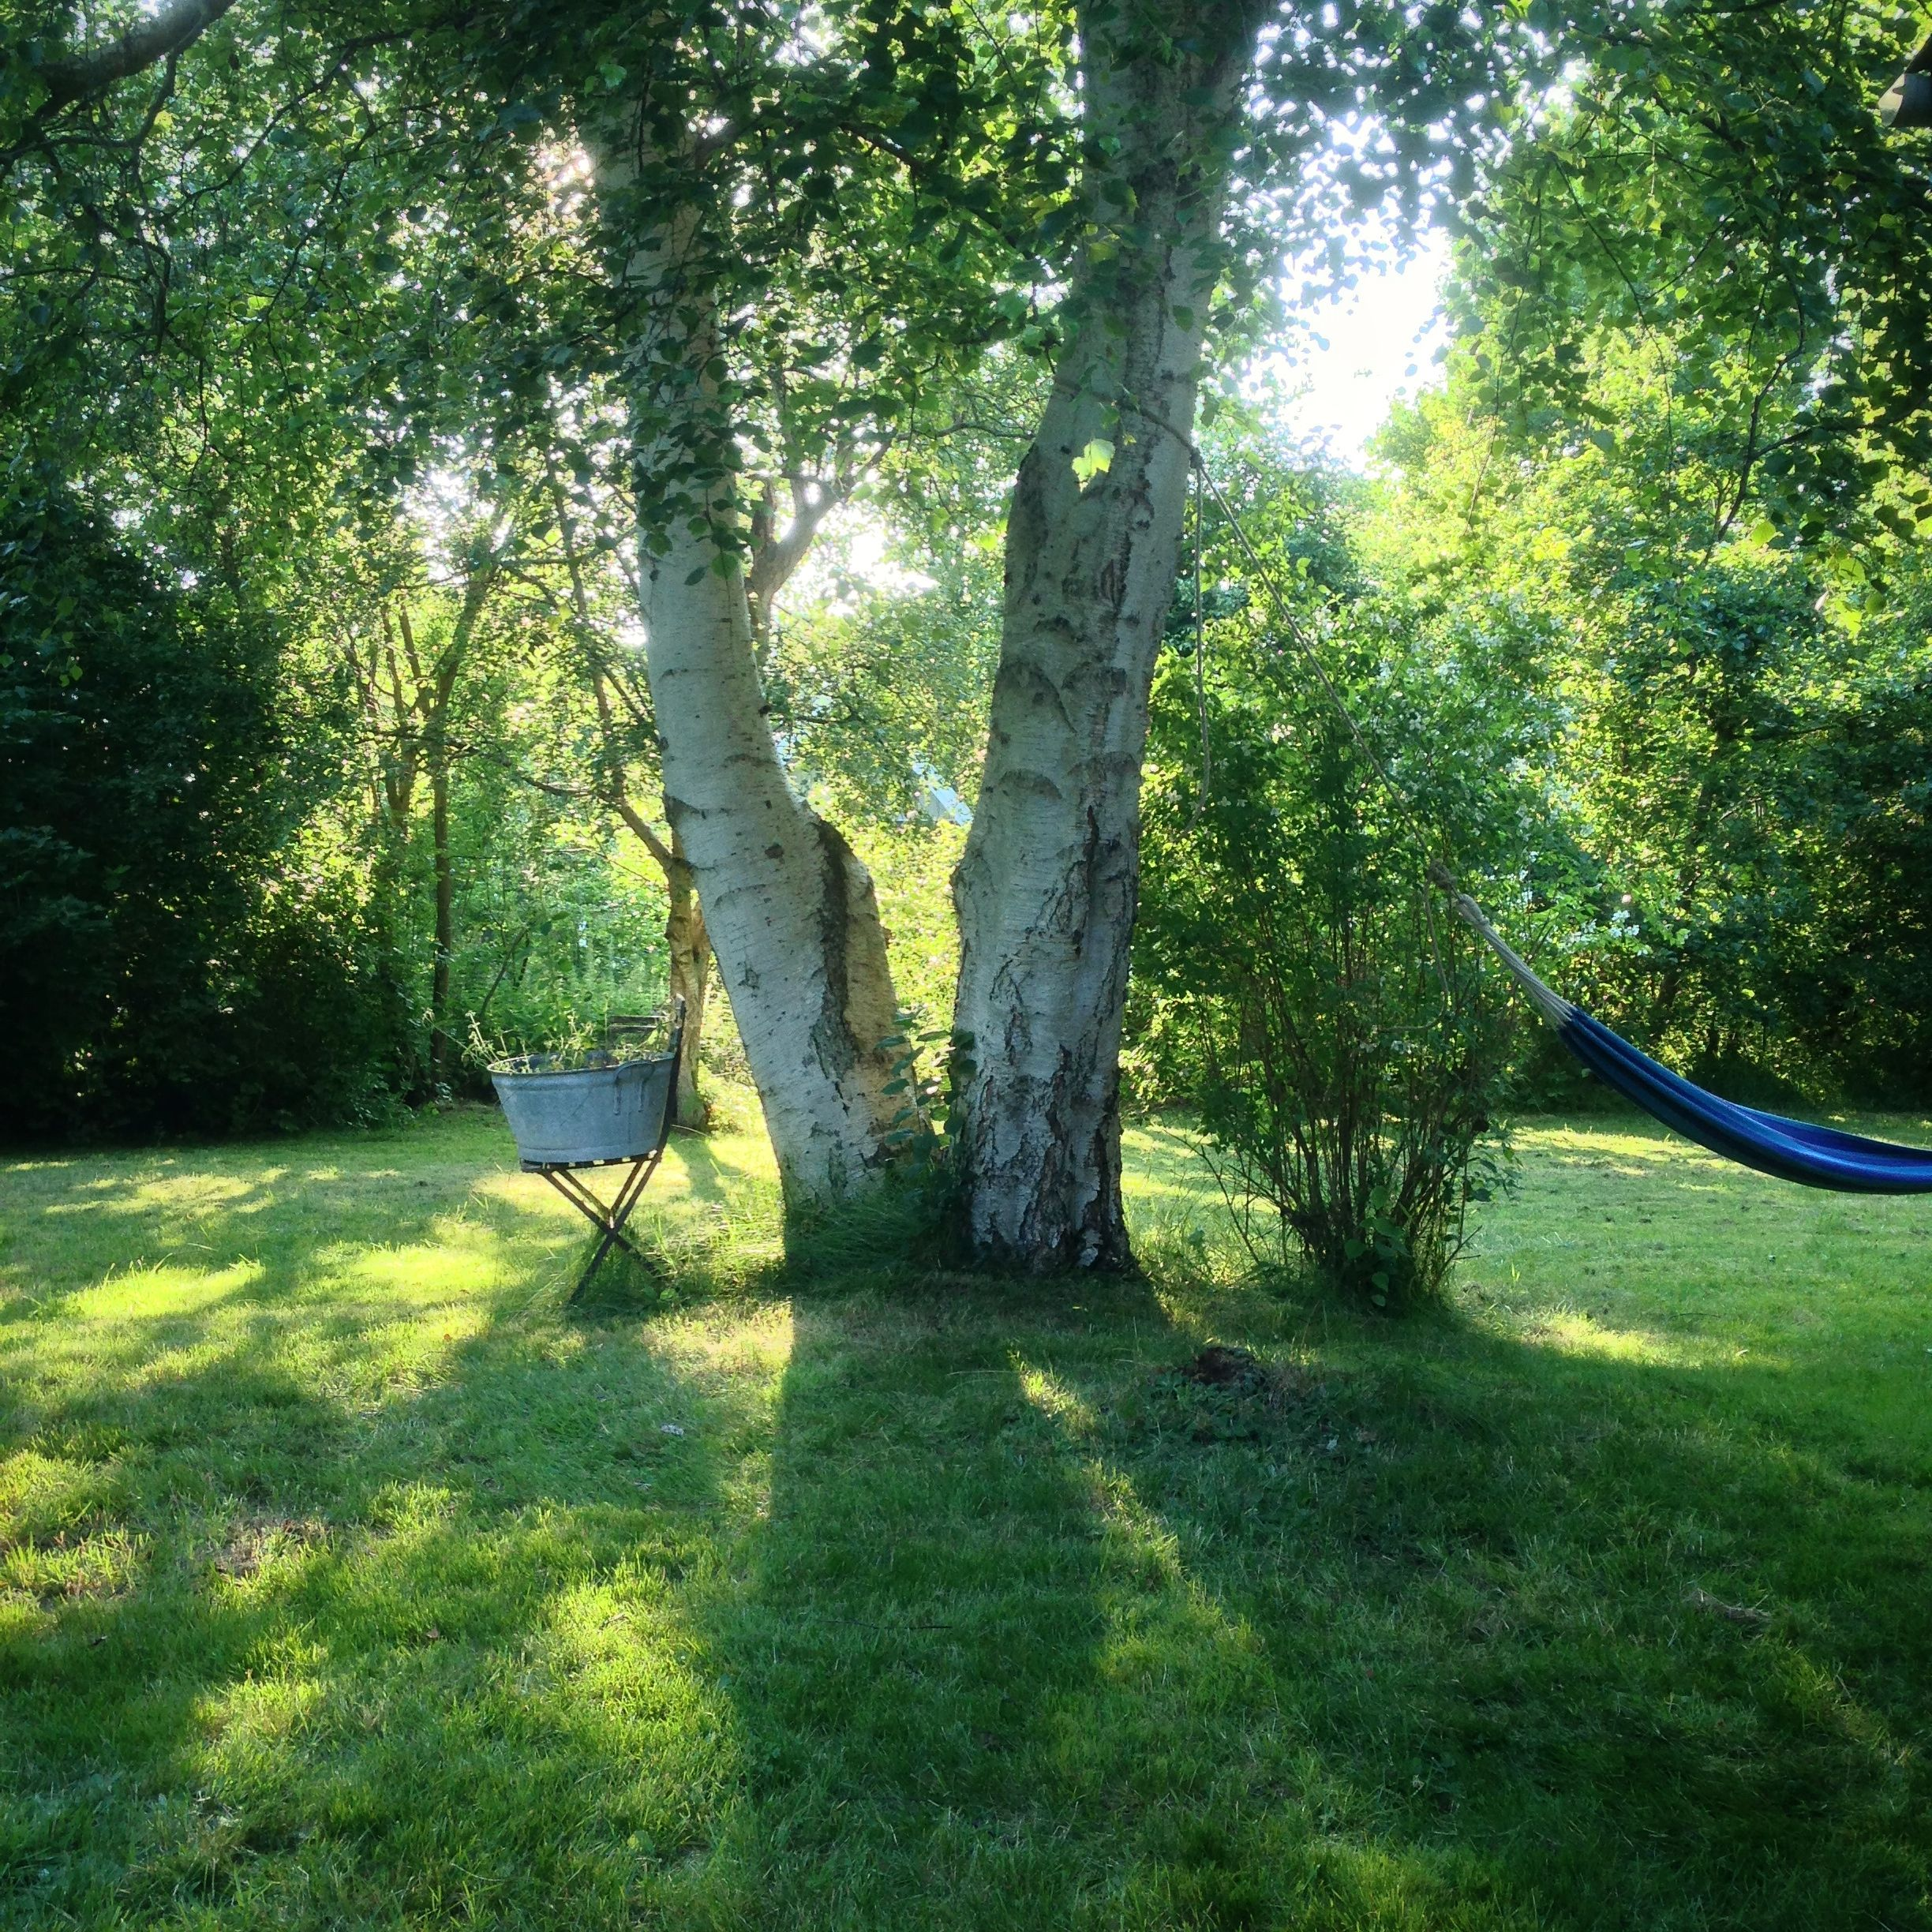grass: (596, 1274, 1918, 1925), (0, 1138, 586, 1928), (1479, 1125, 1921, 1272)
tree: (637, 563, 920, 1279), (938, 499, 1162, 1295)
